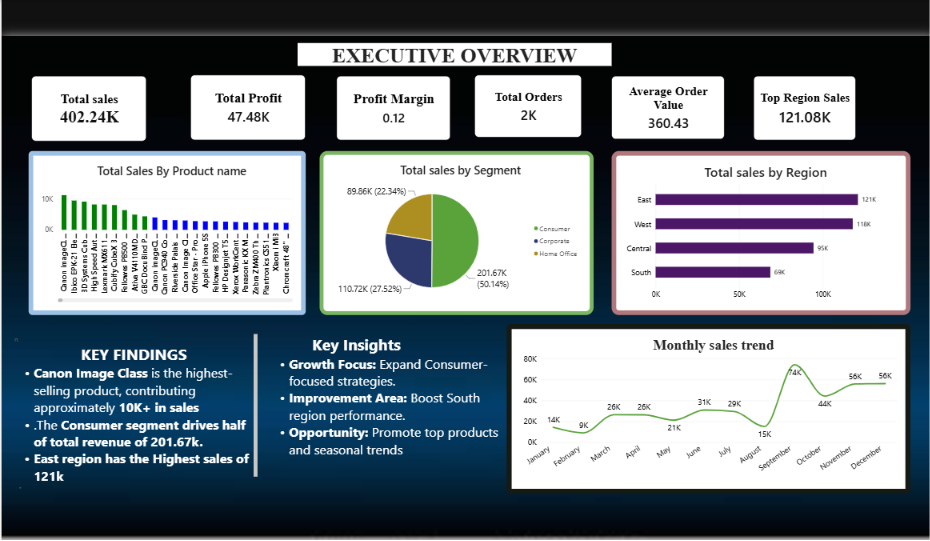

What the dashboard file says about the page in this screenshot:
{"tool":"powerbi","page":{"name":"Executive Overview","canvas":[1920,1080],"ordinal":0},"visuals":[{"type":"cardVisual","fields":{"Data":["Sum(Data.Profit)"]},"box":[390,80,236,134],"z":0},{"type":"cardVisual","fields":{"Data":["Data.Profit Margin"]},"box":[690,82,234,132],"z":1000},{"type":"cardVisual","fields":{"Data":["Data.Total Orders"]},"box":[974,80,220,128],"z":2000},{"type":"cardVisual","fields":{"Data":["Data.Average Order Value"]},"box":[1256,82,232,130],"z":3000},{"type":"lineChart","title":"Monthly sales trend","fields":{"Category":["Data.Ship Date.Variation.Date Hierarchy.Month"],"Y":["Sum(Data.Sales)"]},"box":[1039.5,592.8,831.6,349.9],"z":4000},{"type":"barChart","fields":{"Y":["Data.Total sales"],"Category":["Data.Region"]},"box":[1255.6,236.7,615.4,337.6],"z":5000},{"type":"cardVisual","fields":{"Data":["Data.Total sales"]},"box":[62,82,236,134],"z":6000},{"type":"pieChart","fields":{"Category":["Data.Segment"],"Y":["Data.Total sales"]},"box":[654.5,236.7,564,337.6],"z":7000},{"type":"cardVisual","fields":{"Data":["Data.Top Region Sales"]},"box":[1548,82,210,132],"z":8000},{"type":"textbox","title":"EXECUTIVE OVERVIEW","box":[609.3,14.4,646.3,47.3],"z":9000},{"type":"columnChart","title":"Total Sales By Product name","fields":{"Y":["Sum(Data.Sales)"],"Category":["Product_details.Product Name"]},"box":[55.6,236.7,570.2,337.6],"z":10000},{"type":"textbox","box":[26.8,613.4,500.2,329.3],"z":11000},{"type":"textbox","box":[551.6,613.4,487.8,329.3],"z":12000}]}

Visuals, with their boxes on the page's 1920x1080 design canvas (x1, y1, x2, y2). These are canvas units, not pixel positions in the 930x541 screenshot, which may show the page scaled, cropped or inside an application window:
cardVisual - Sum(Data.Profit): x1=390 y1=80 x2=626 y2=214
cardVisual - Data.Profit Margin: x1=690 y1=82 x2=924 y2=214
cardVisual - Data.Total Orders: x1=974 y1=80 x2=1194 y2=208
cardVisual - Data.Average Order Value: x1=1256 y1=82 x2=1488 y2=212
"Monthly sales trend" lineChart: x1=1040 y1=593 x2=1871 y2=943
barChart - Data.Total sales x Data.Region: x1=1256 y1=237 x2=1871 y2=574
cardVisual - Data.Total sales: x1=62 y1=82 x2=298 y2=216
pieChart - Data.Segment x Data.Total sales: x1=654 y1=237 x2=1218 y2=574
cardVisual - Data.Top Region Sales: x1=1548 y1=82 x2=1758 y2=214
"EXECUTIVE OVERVIEW" textbox: x1=609 y1=14 x2=1256 y2=62
"Total Sales By Product name" columnChart: x1=56 y1=237 x2=626 y2=574
textbox: x1=27 y1=613 x2=527 y2=943
textbox: x1=552 y1=613 x2=1039 y2=943
